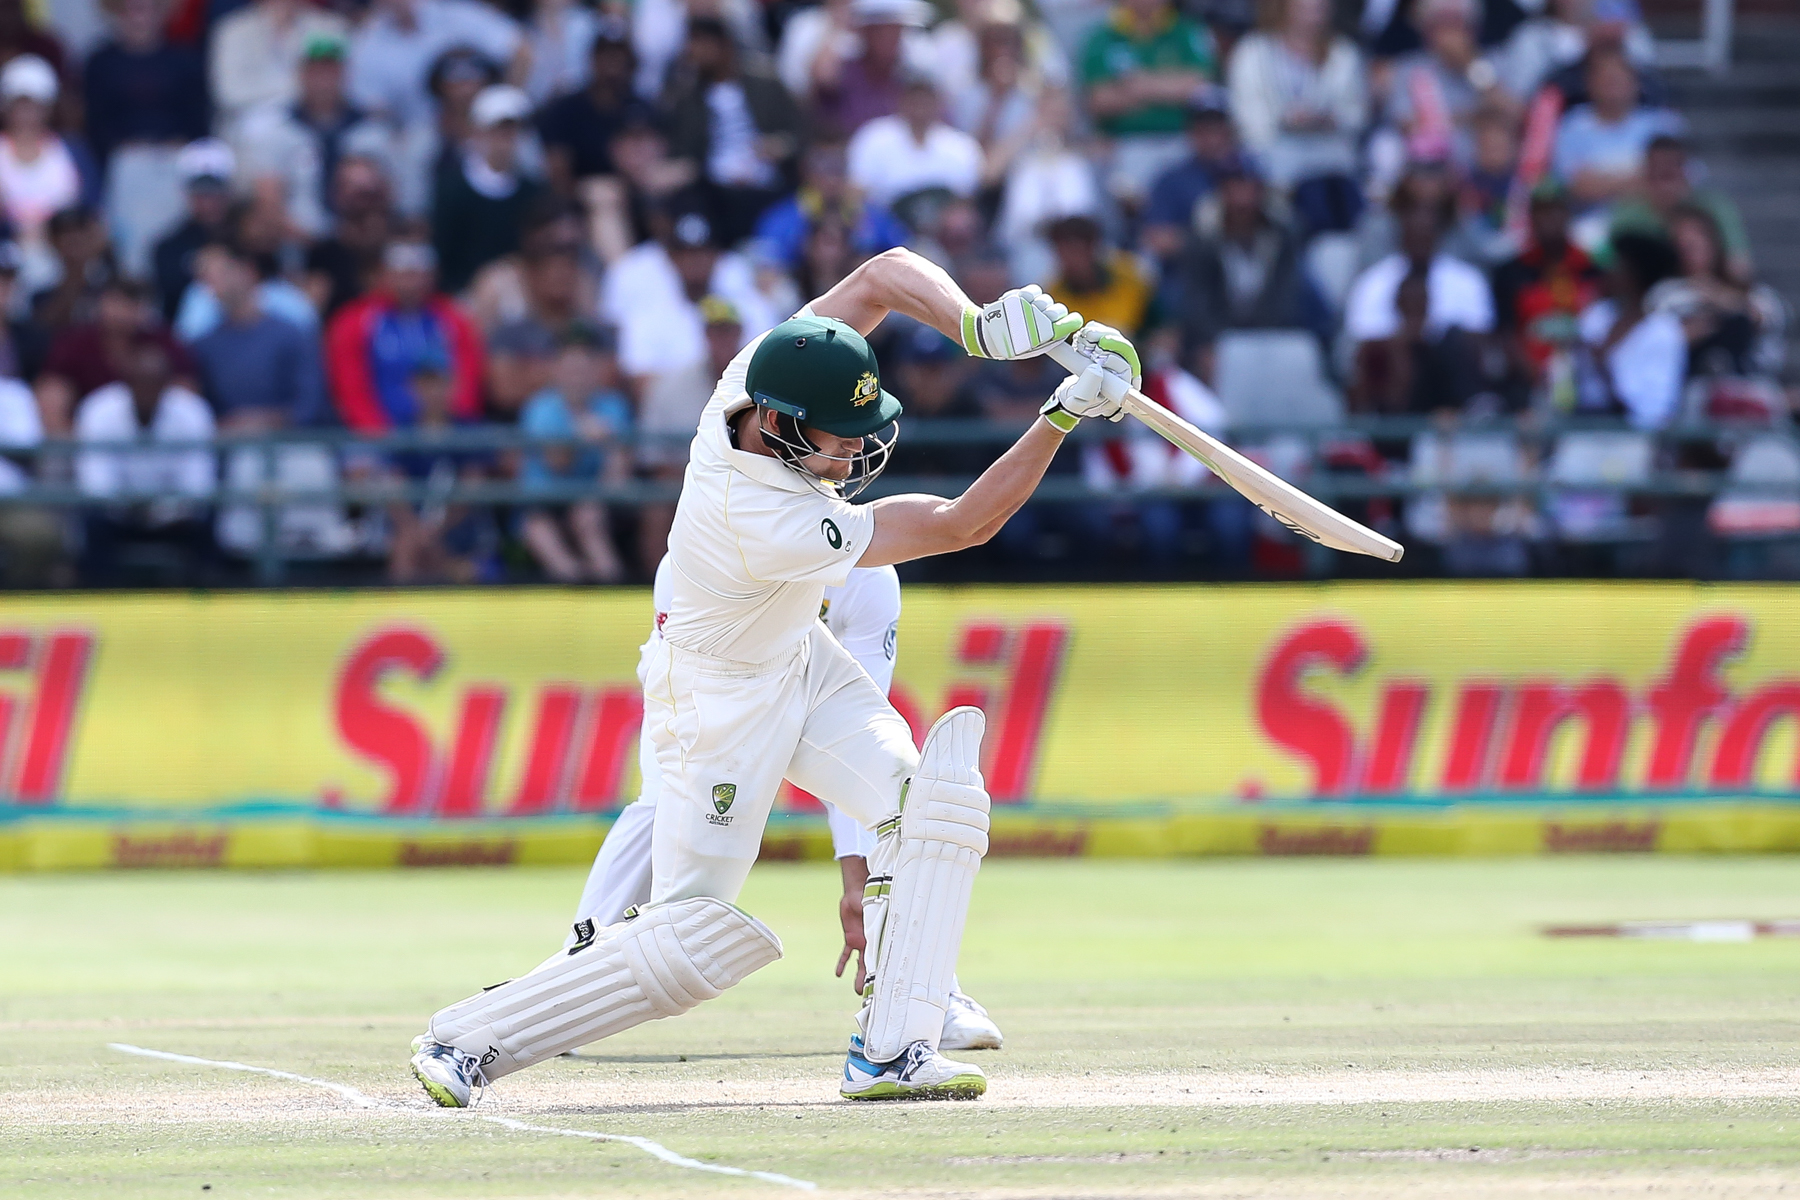LeftElbow: (875, 193, 939, 336)
RightElbow: (925, 455, 1012, 579)
RightShoulder: (777, 467, 869, 583)
